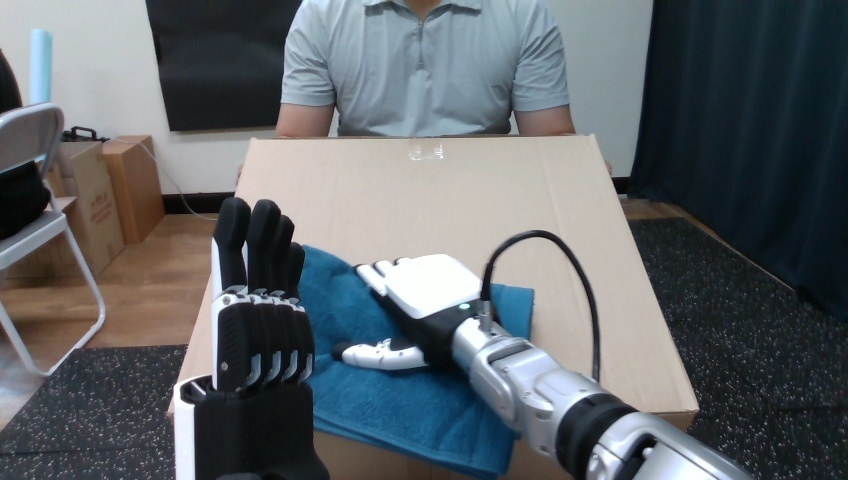left robot hand: (334, 230, 750, 479), (173, 197, 328, 479), (489, 236, 593, 377)
